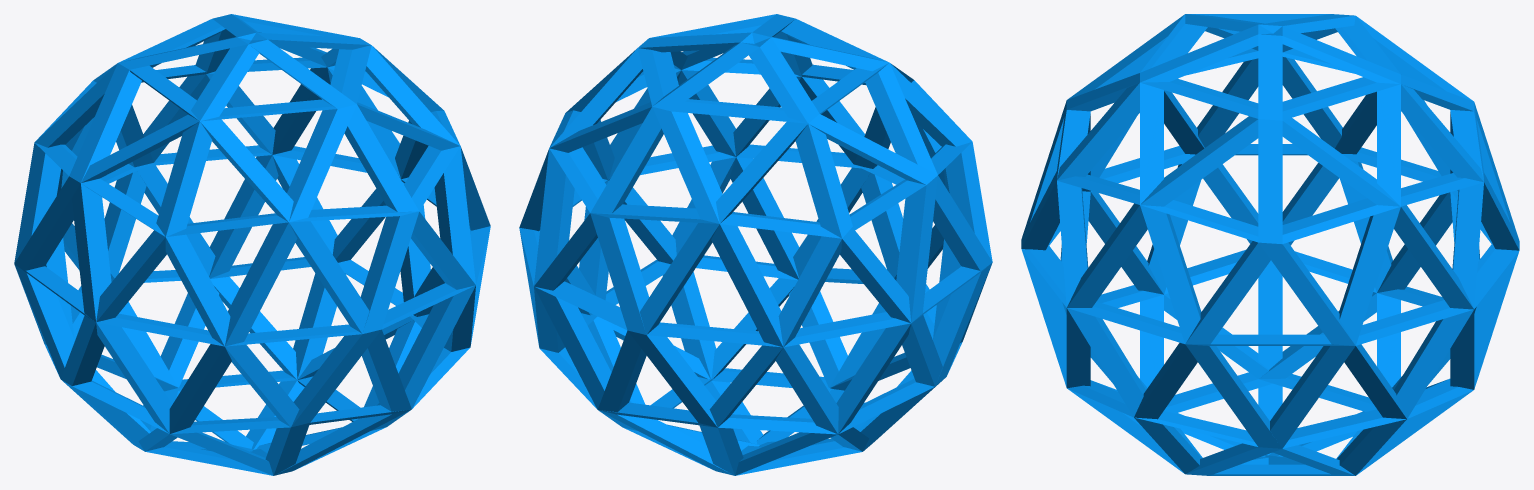
Rendered from Energy01.glb.
The picture shows the model from 3 angles, left to right: view 1: azimuth 30°, elevation 25°; view 2: azimuth 150°, elevation 25°; view 3: azimuth 270°, elevation 25°; orthographic projection. The views are drawn at different scales.
Parts seen in each view (by area): view 1: Icosphere; view 2: Icosphere; view 3: Icosphere.
Part boxes in pixels (x1,y1,x2,y2): Icosphere: (14,14,490,475); Icosphere: (519,14,992,475); Icosphere: (1021,14,1519,475).
Size of the model in its own units: 2 by 2.01 by 2.1.
